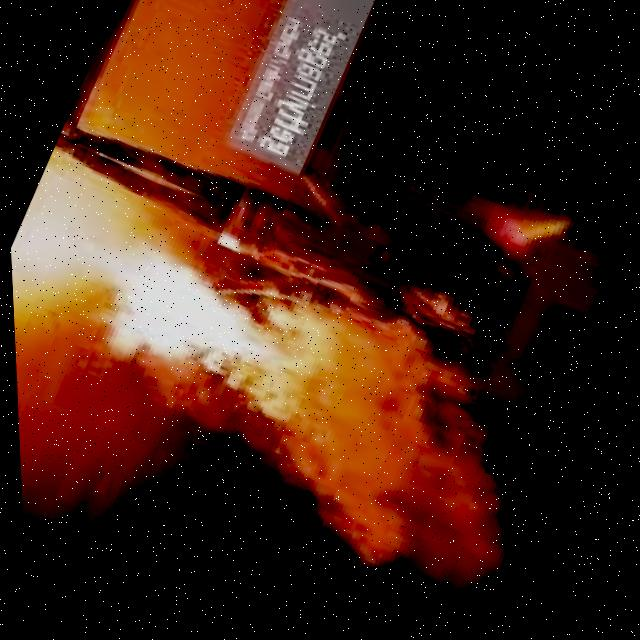Fire: (6, 147, 338, 454)
Smoke: (200, 282, 599, 632)
